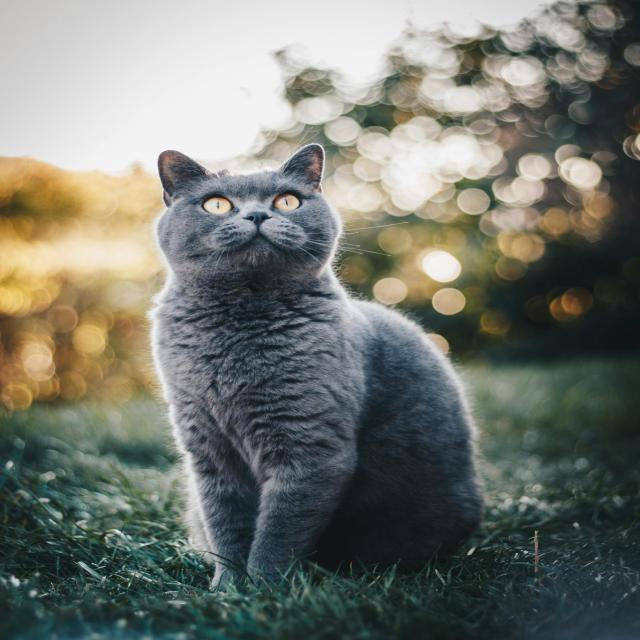Cat: (146, 142, 485, 593)
